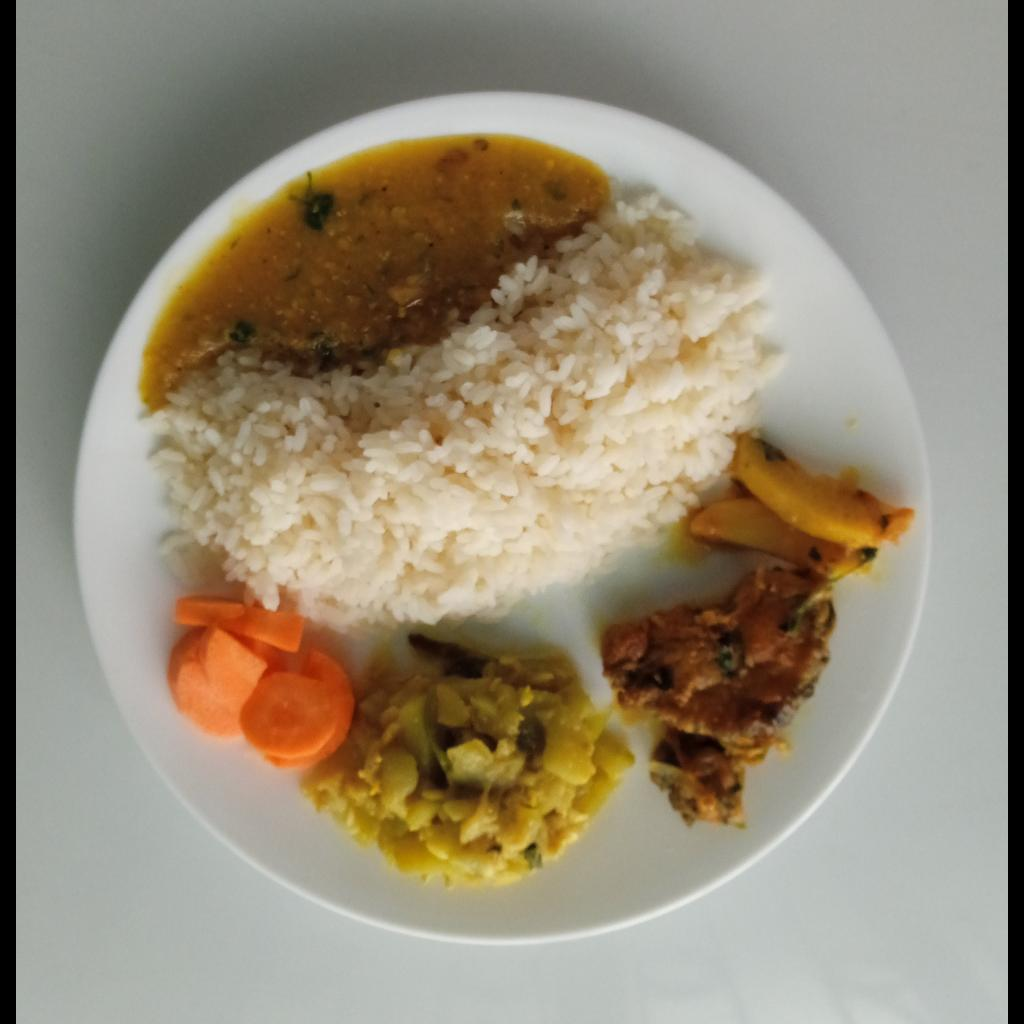carrot: (165, 597, 356, 769)
daal: (148, 140, 607, 406)
fish: (602, 570, 836, 822)
lau: (301, 633, 637, 884)
potato: (692, 434, 915, 576)
rice: (147, 193, 787, 629)
